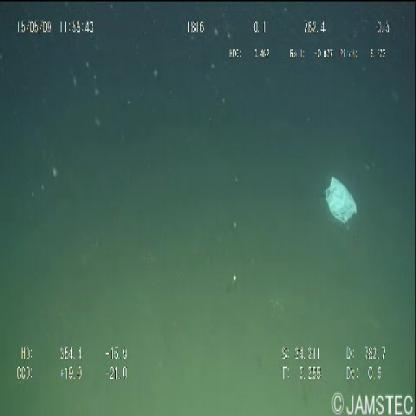Rác: (325, 179, 358, 225)
